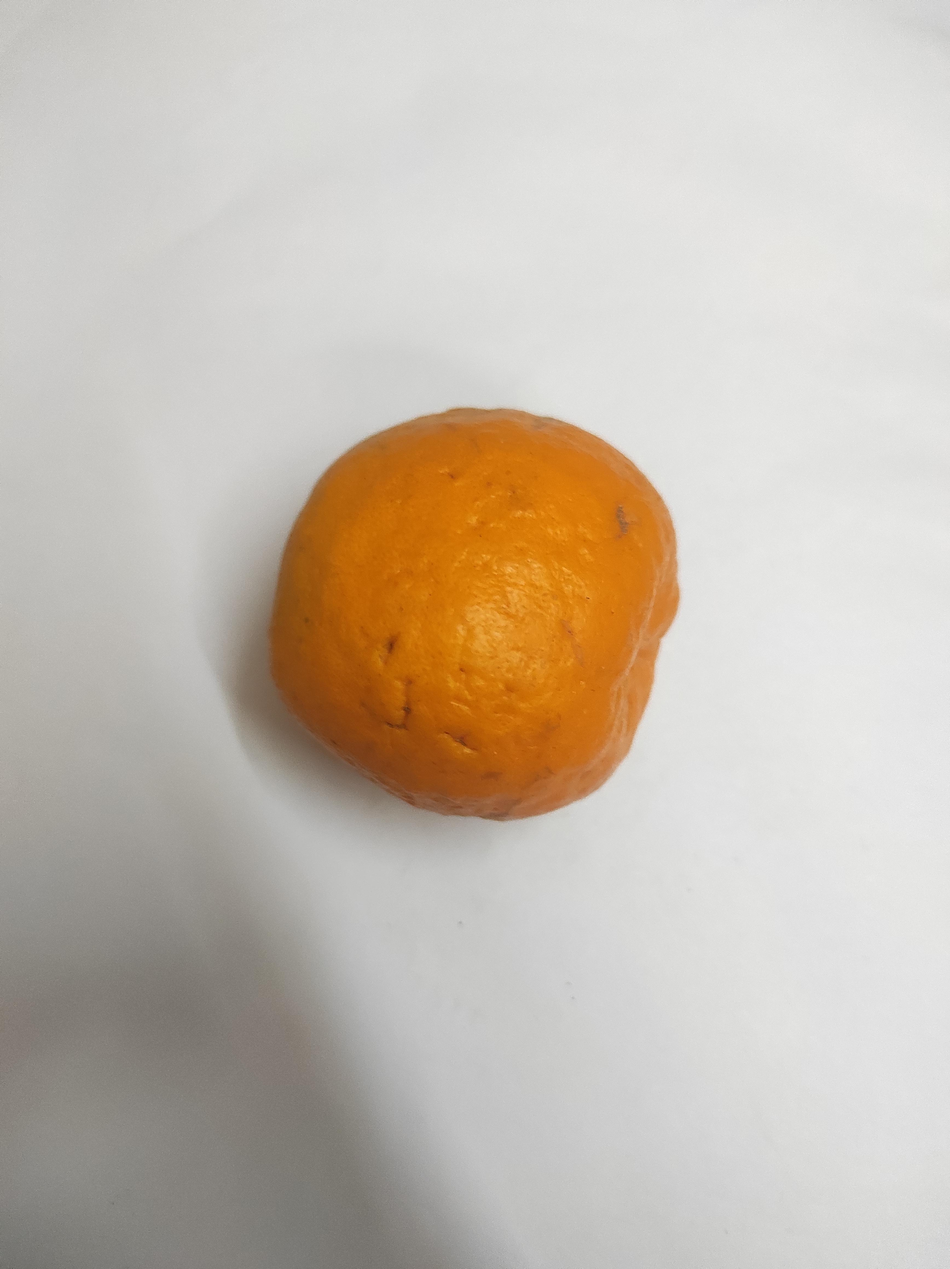Orange Ripe: (203, 534, 506, 1086)
